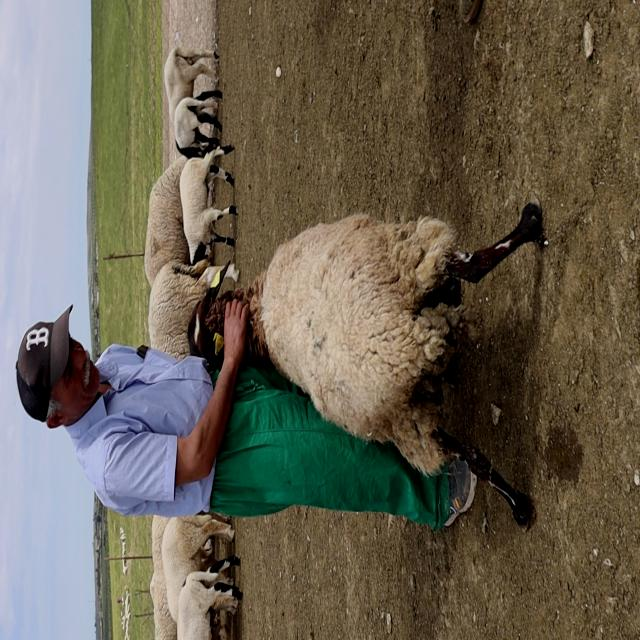Score_2: (188, 200, 542, 526)
